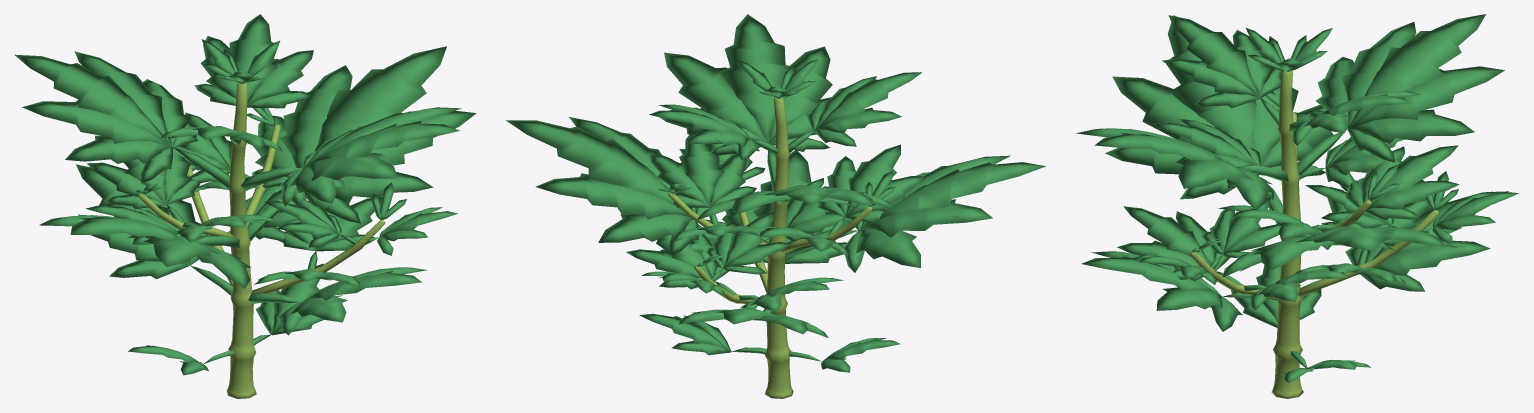
The model's file is plant_vegetative.glb.
The picture shows the model from 3 angles, left to right: view 1: azimuth 30°, elevation 25°; view 2: azimuth 150°, elevation 25°; view 3: azimuth 270°, elevation 25°; orthographic projection. The views are drawn at different scales.
Parts seen in each view (by area): view 1: Leaves; view 2: Leaves; view 3: Leaves.
Boxes of the visible parts, x1,y1,x2,y2 form: Leaves: (14,14,476,398); Leaves: (505,14,1045,398); Leaves: (1076,14,1519,398).
Size of the model in its own units: 0.96 by 0.6641 by 0.7529.
